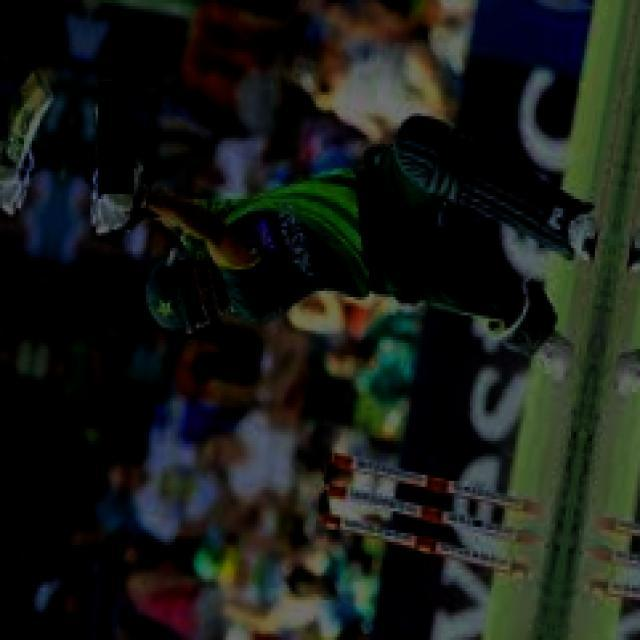bat: (95, 44, 155, 187), (5, 66, 60, 173)
